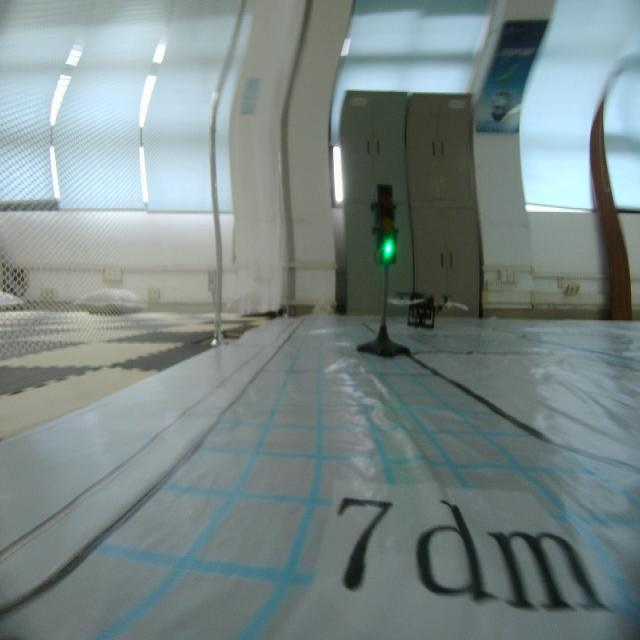green: (364, 180, 404, 271)
